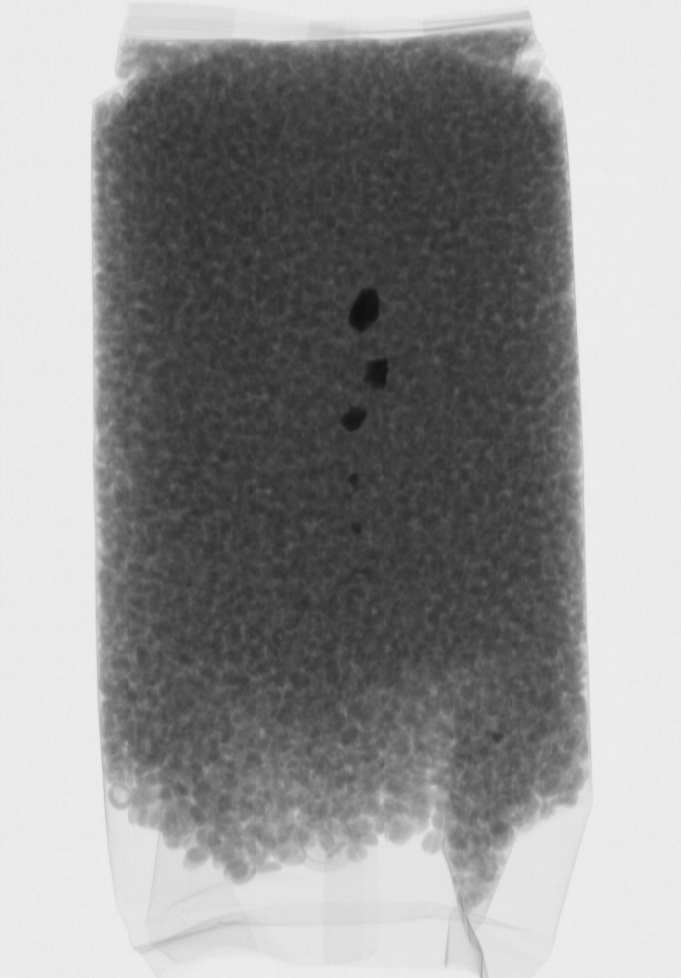stone: (343, 277, 388, 337), (363, 354, 394, 392), (336, 404, 372, 436), (350, 469, 369, 490), (348, 515, 364, 533)
stone_area: (316, 256, 407, 546)
